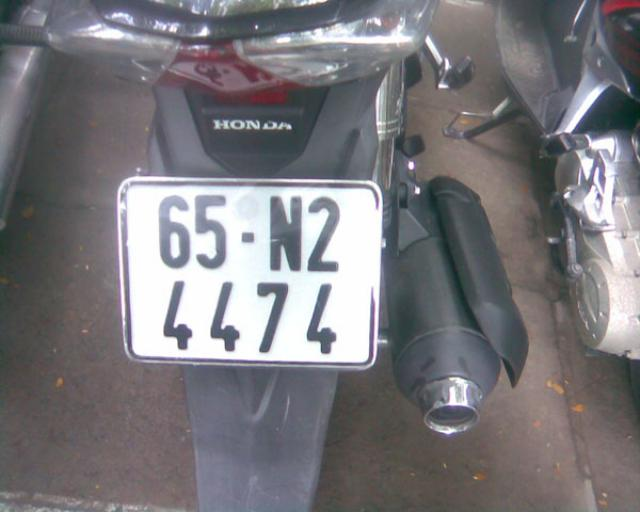plate: (119, 176, 378, 370)
